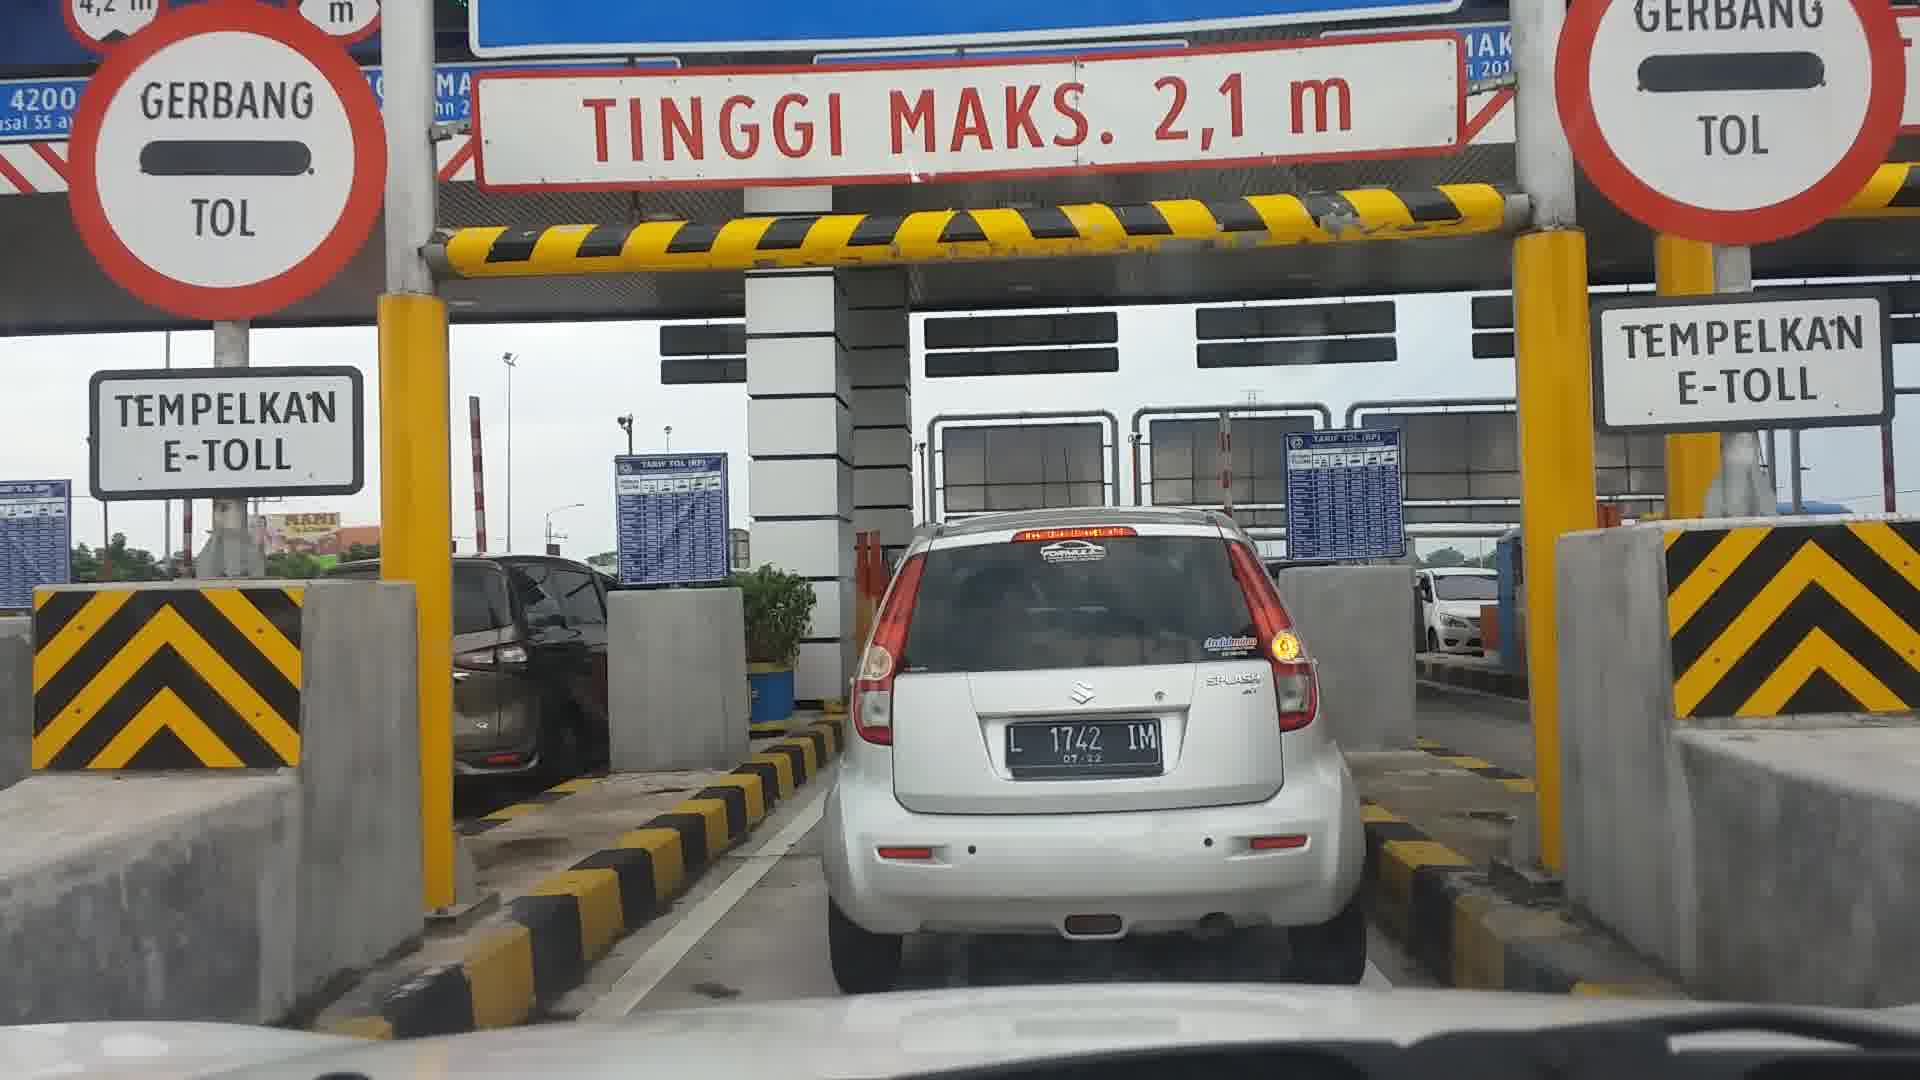plate_positive: (1005, 720, 1164, 775)
